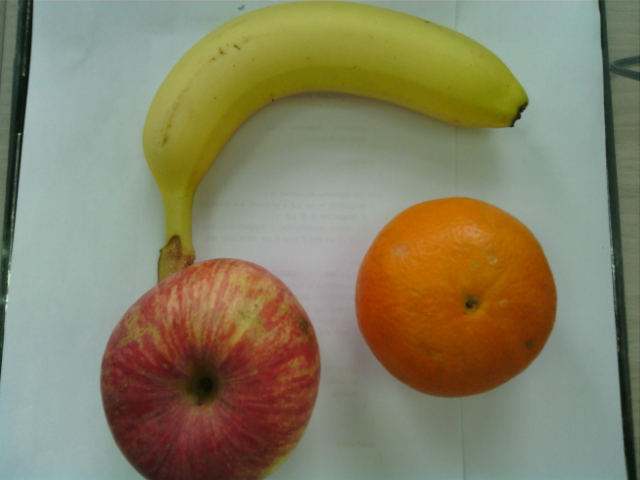normal_apple: (104, 257, 324, 480)
normal_banana: (142, 3, 528, 194)
normal_orange: (353, 195, 554, 401)
